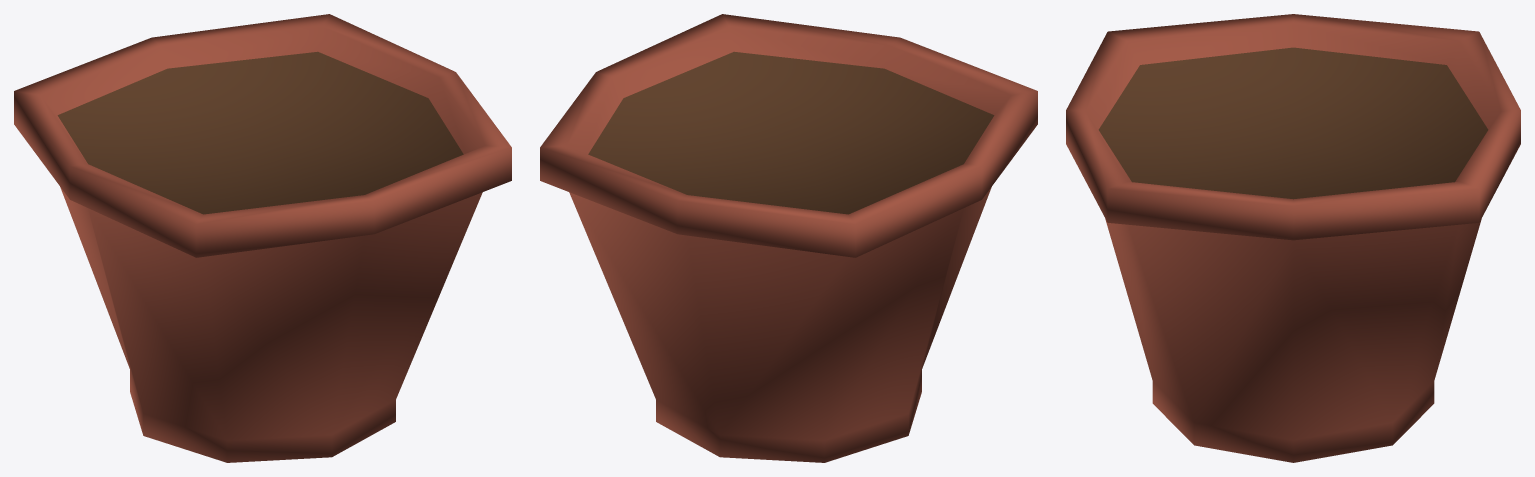
The model's file is PlantPot.fbx.
The picture shows the model from 3 angles, left to right: view 1: azimuth 30°, elevation 25°; view 2: azimuth 150°, elevation 25°; view 3: azimuth 270°, elevation 25°; orthographic projection. The views are drawn at different scales.
Visible parts, largest first — view 1: PlantPot; view 2: PlantPot; view 3: PlantPot.
Boxes of the visible parts, x1=… form: PlantPot: x1=14, y1=14, x2=511, y2=462; PlantPot: x1=540, y1=14, x2=1037, y2=462; PlantPot: x1=1066, y1=14, x2=1520, y2=462.
Bounding box in the file's own units: 219 × 156 × 219.
